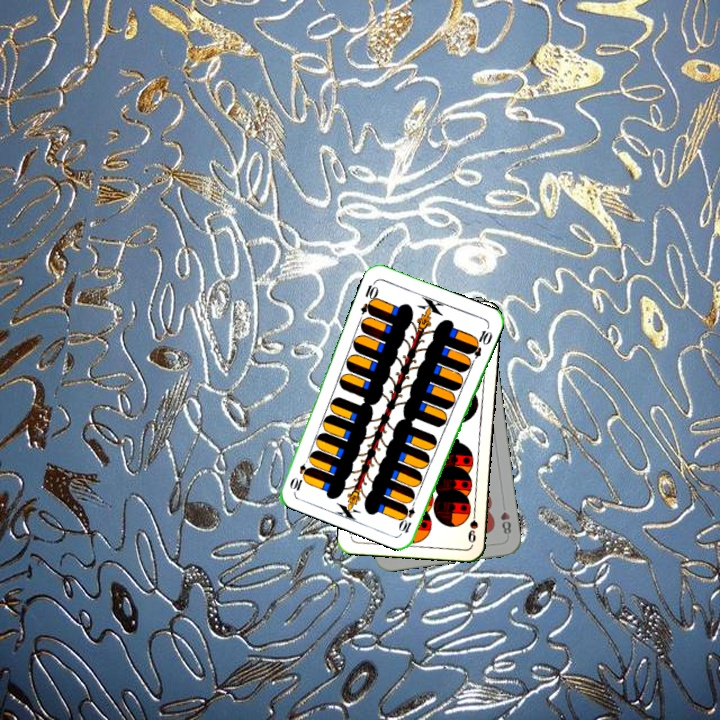E10: (356, 277, 381, 317), (396, 495, 418, 536)
H8: (497, 499, 513, 537)
S9: (464, 505, 480, 545)
